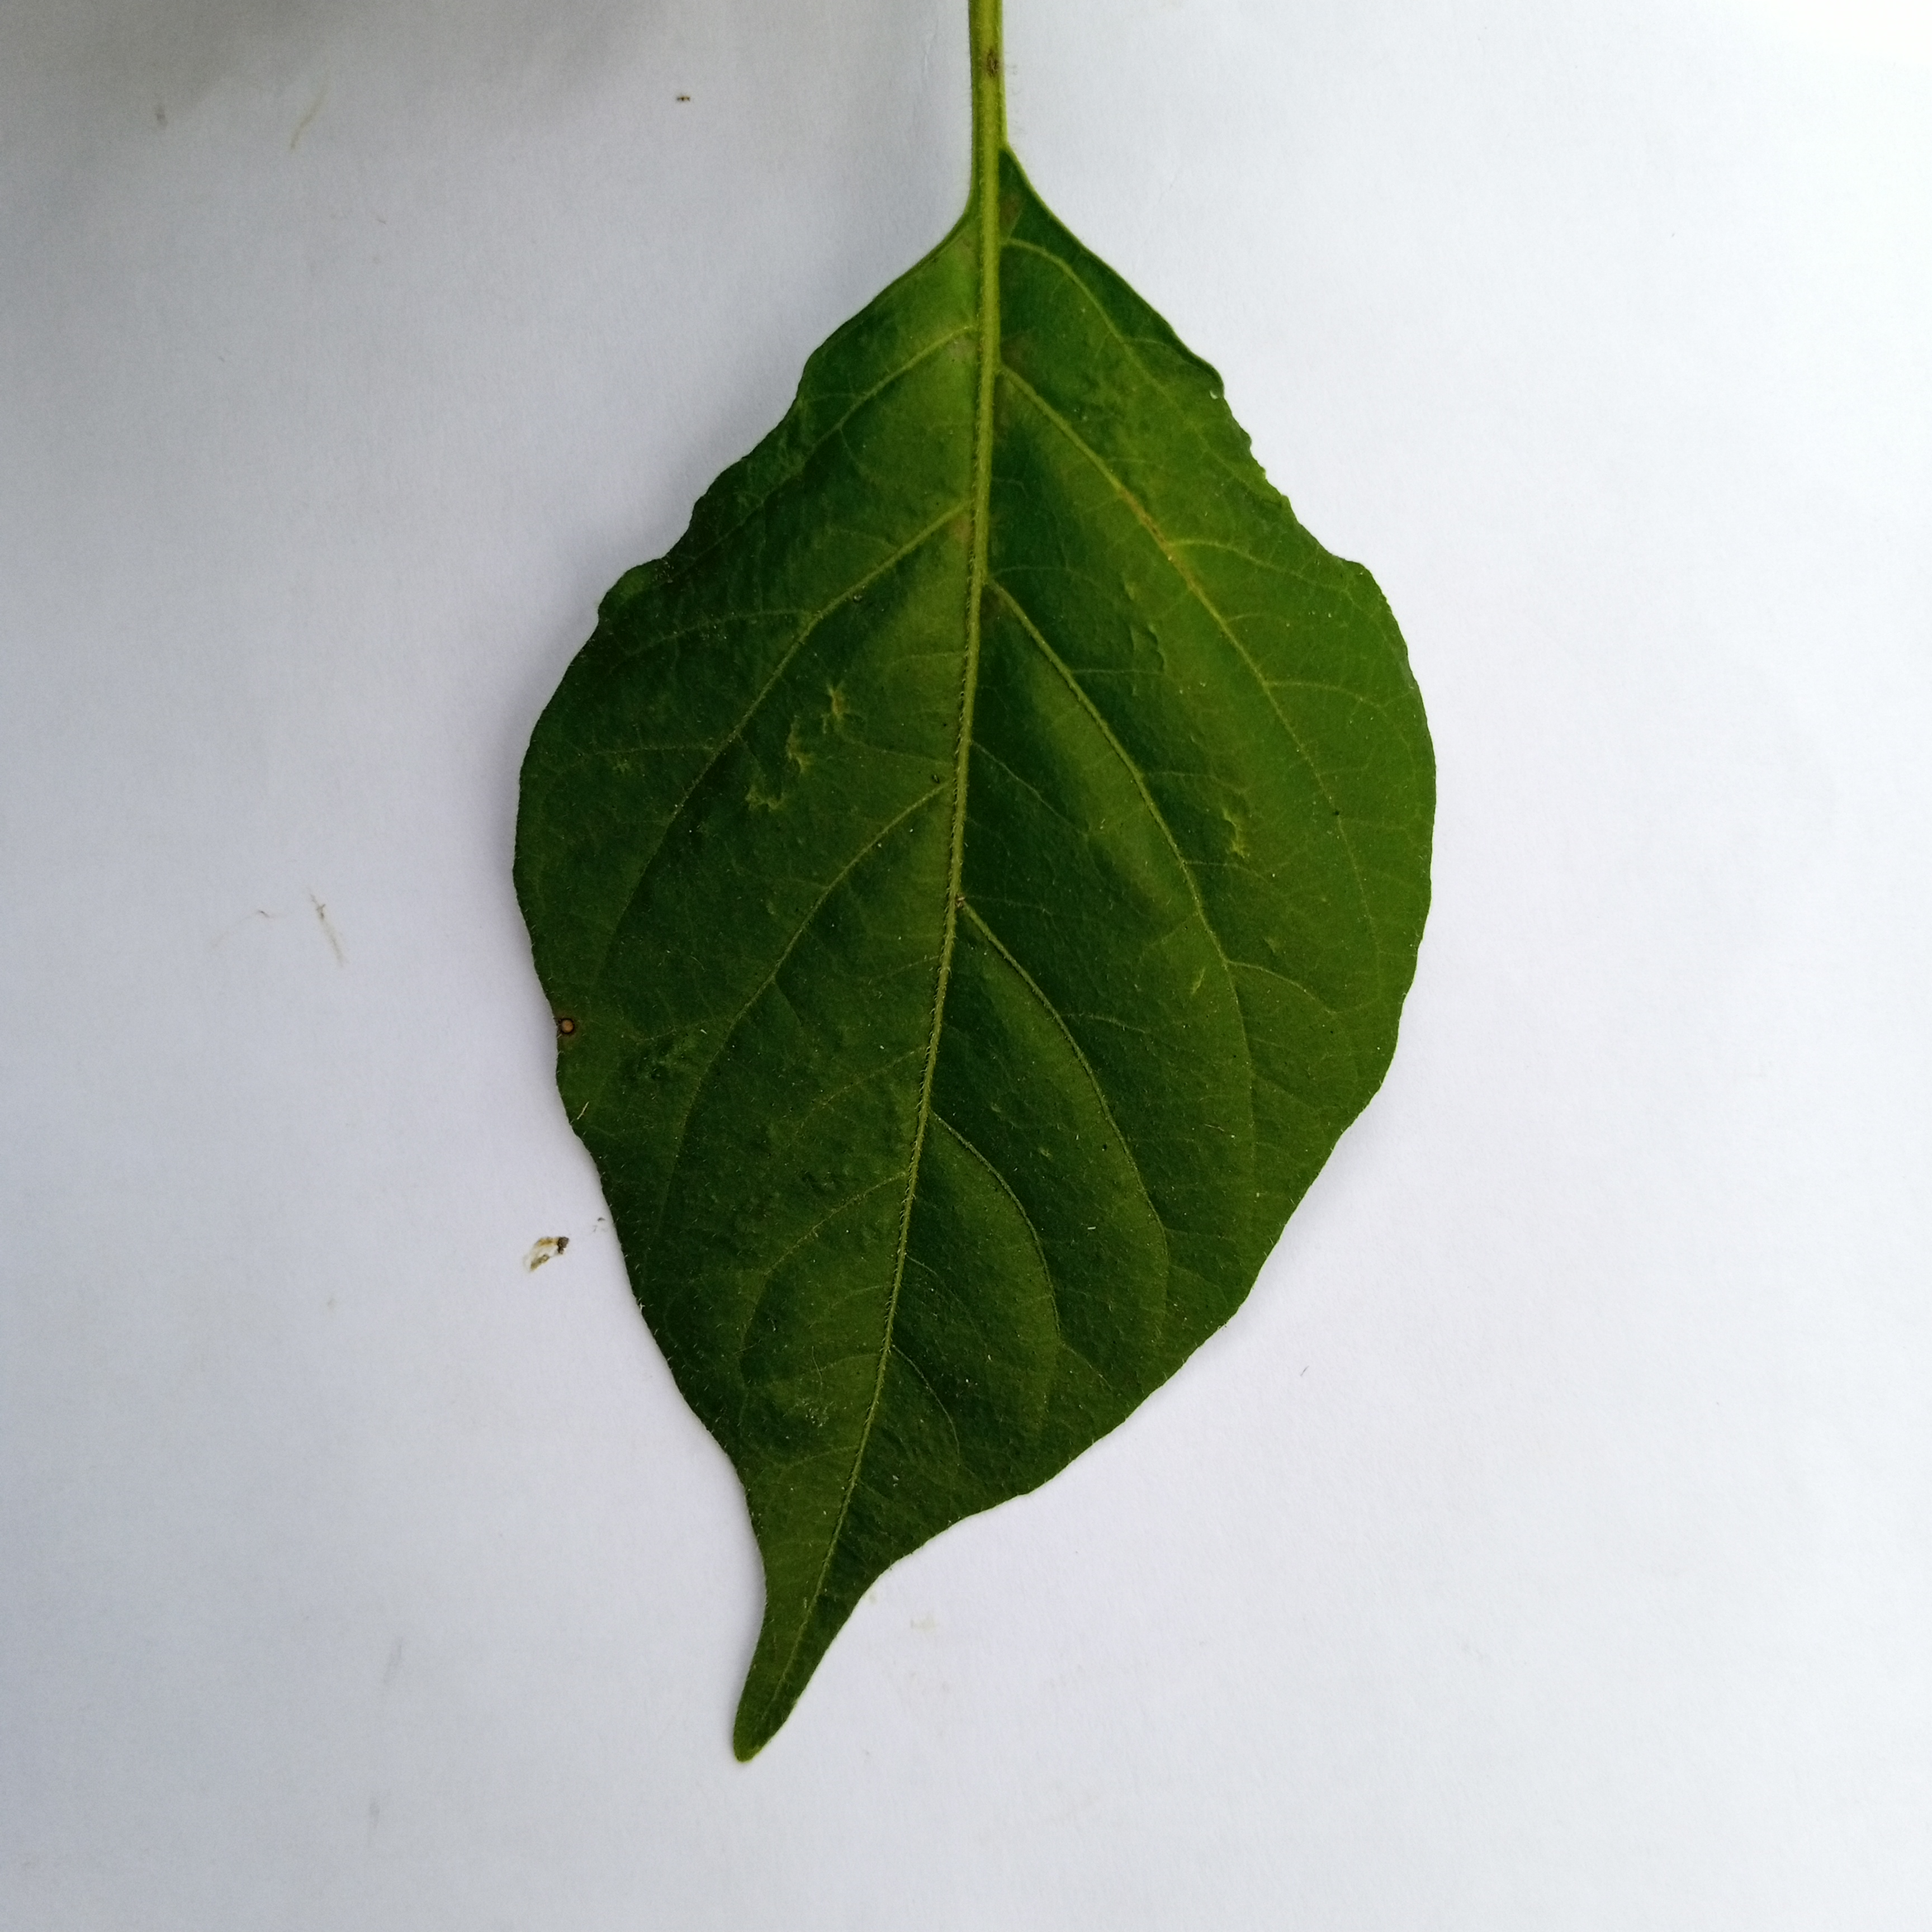Leaf: (368, 110, 1477, 1842)
